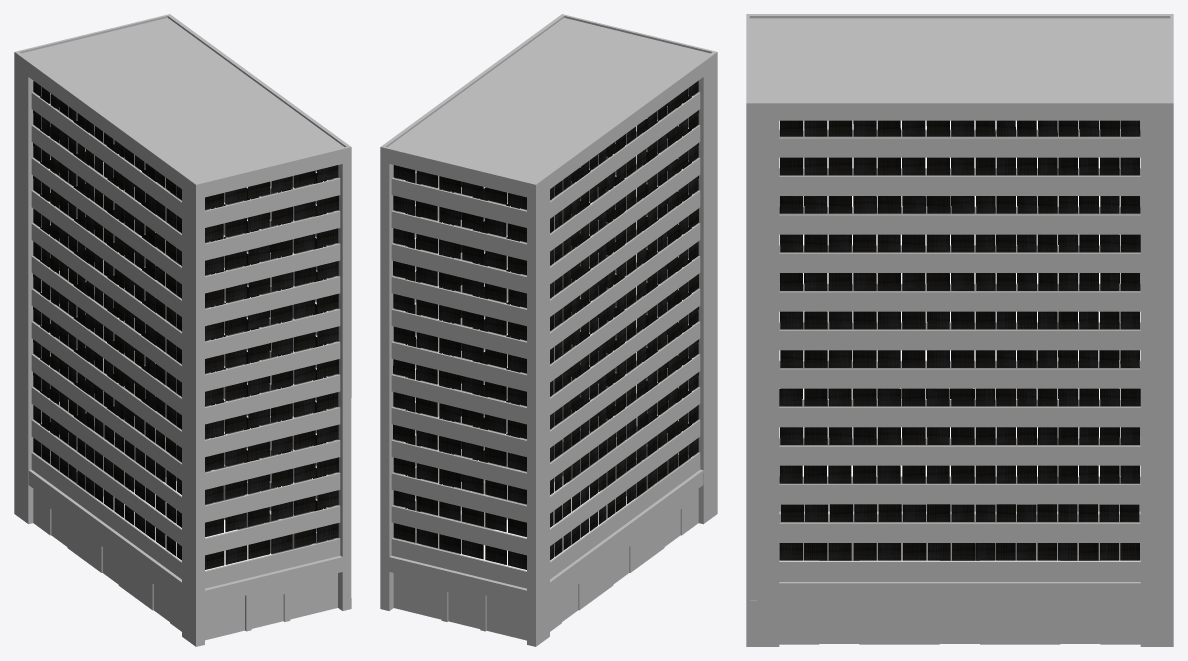
The picture shows the model from 3 angles, left to right: view 1: azimuth 30°, elevation 25°; view 2: azimuth 150°, elevation 25°; view 3: azimuth 270°, elevation 25°; orthographic projection. The views are drawn at different scales.
Parts seen in each view (by area): view 1: BC-022; view 2: BC-022; view 3: BC-022.
Part boxes in pixels (x1,y1,x2,y2): BC-022: [14, 14, 351, 646]; BC-022: [380, 14, 717, 646]; BC-022: [746, 14, 1173, 646].
Size of what is drawn, in the model's own units: 15.06 by 42.79 by 30.48.
